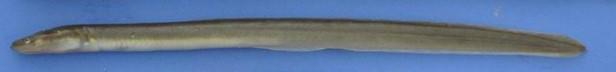Freshwater Eel: (13, 18, 594, 57)
